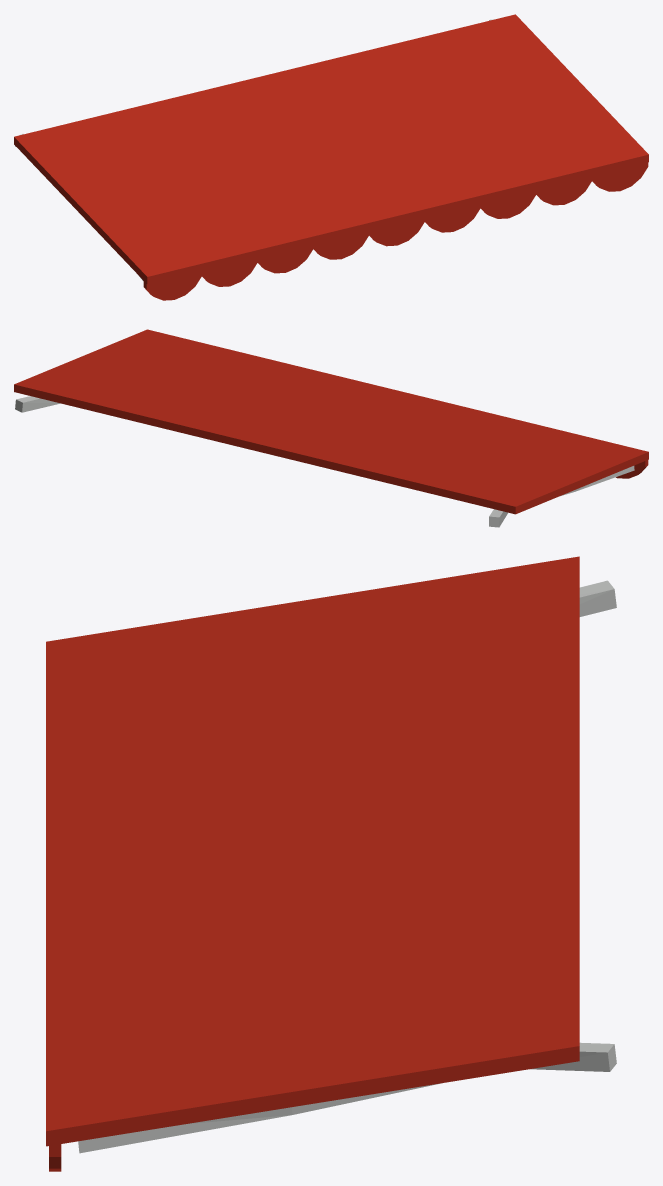
Rendered from SM_Cart_BaoAwning_01.fbx.
The picture shows the model from 3 angles, top to bottom: view 1: azimuth 30°, elevation 25°; view 2: azimuth 150°, elevation 25°; view 3: azimuth 270°, elevation 25°; orthographic projection. The views are drawn at different scales.
Parts seen in each view (by area): view 1: SM_Cart_BaoAwning_01; view 2: SM_Cart_BaoAwning_01; view 3: SM_Cart_BaoAwning_01.
Boxes of the visible parts, bbox=[...] form: SM_Cart_BaoAwning_01: bbox=[14, 14, 648, 300]; SM_Cart_BaoAwning_01: bbox=[14, 329, 648, 527]; SM_Cart_BaoAwning_01: bbox=[46, 556, 616, 1171].
Size of the model in its own units: 1.52 by 0.2115 by 0.749.
Materials: 1 (1 with a texture image).
